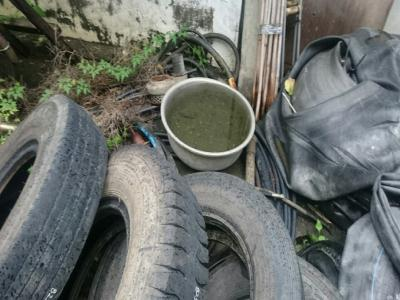bottle: (145, 71, 176, 96), (168, 52, 187, 77)
bowl: (158, 73, 259, 175)
plastic_bag: (273, 31, 400, 200)
tire: (1, 93, 113, 300), (71, 143, 208, 300)
